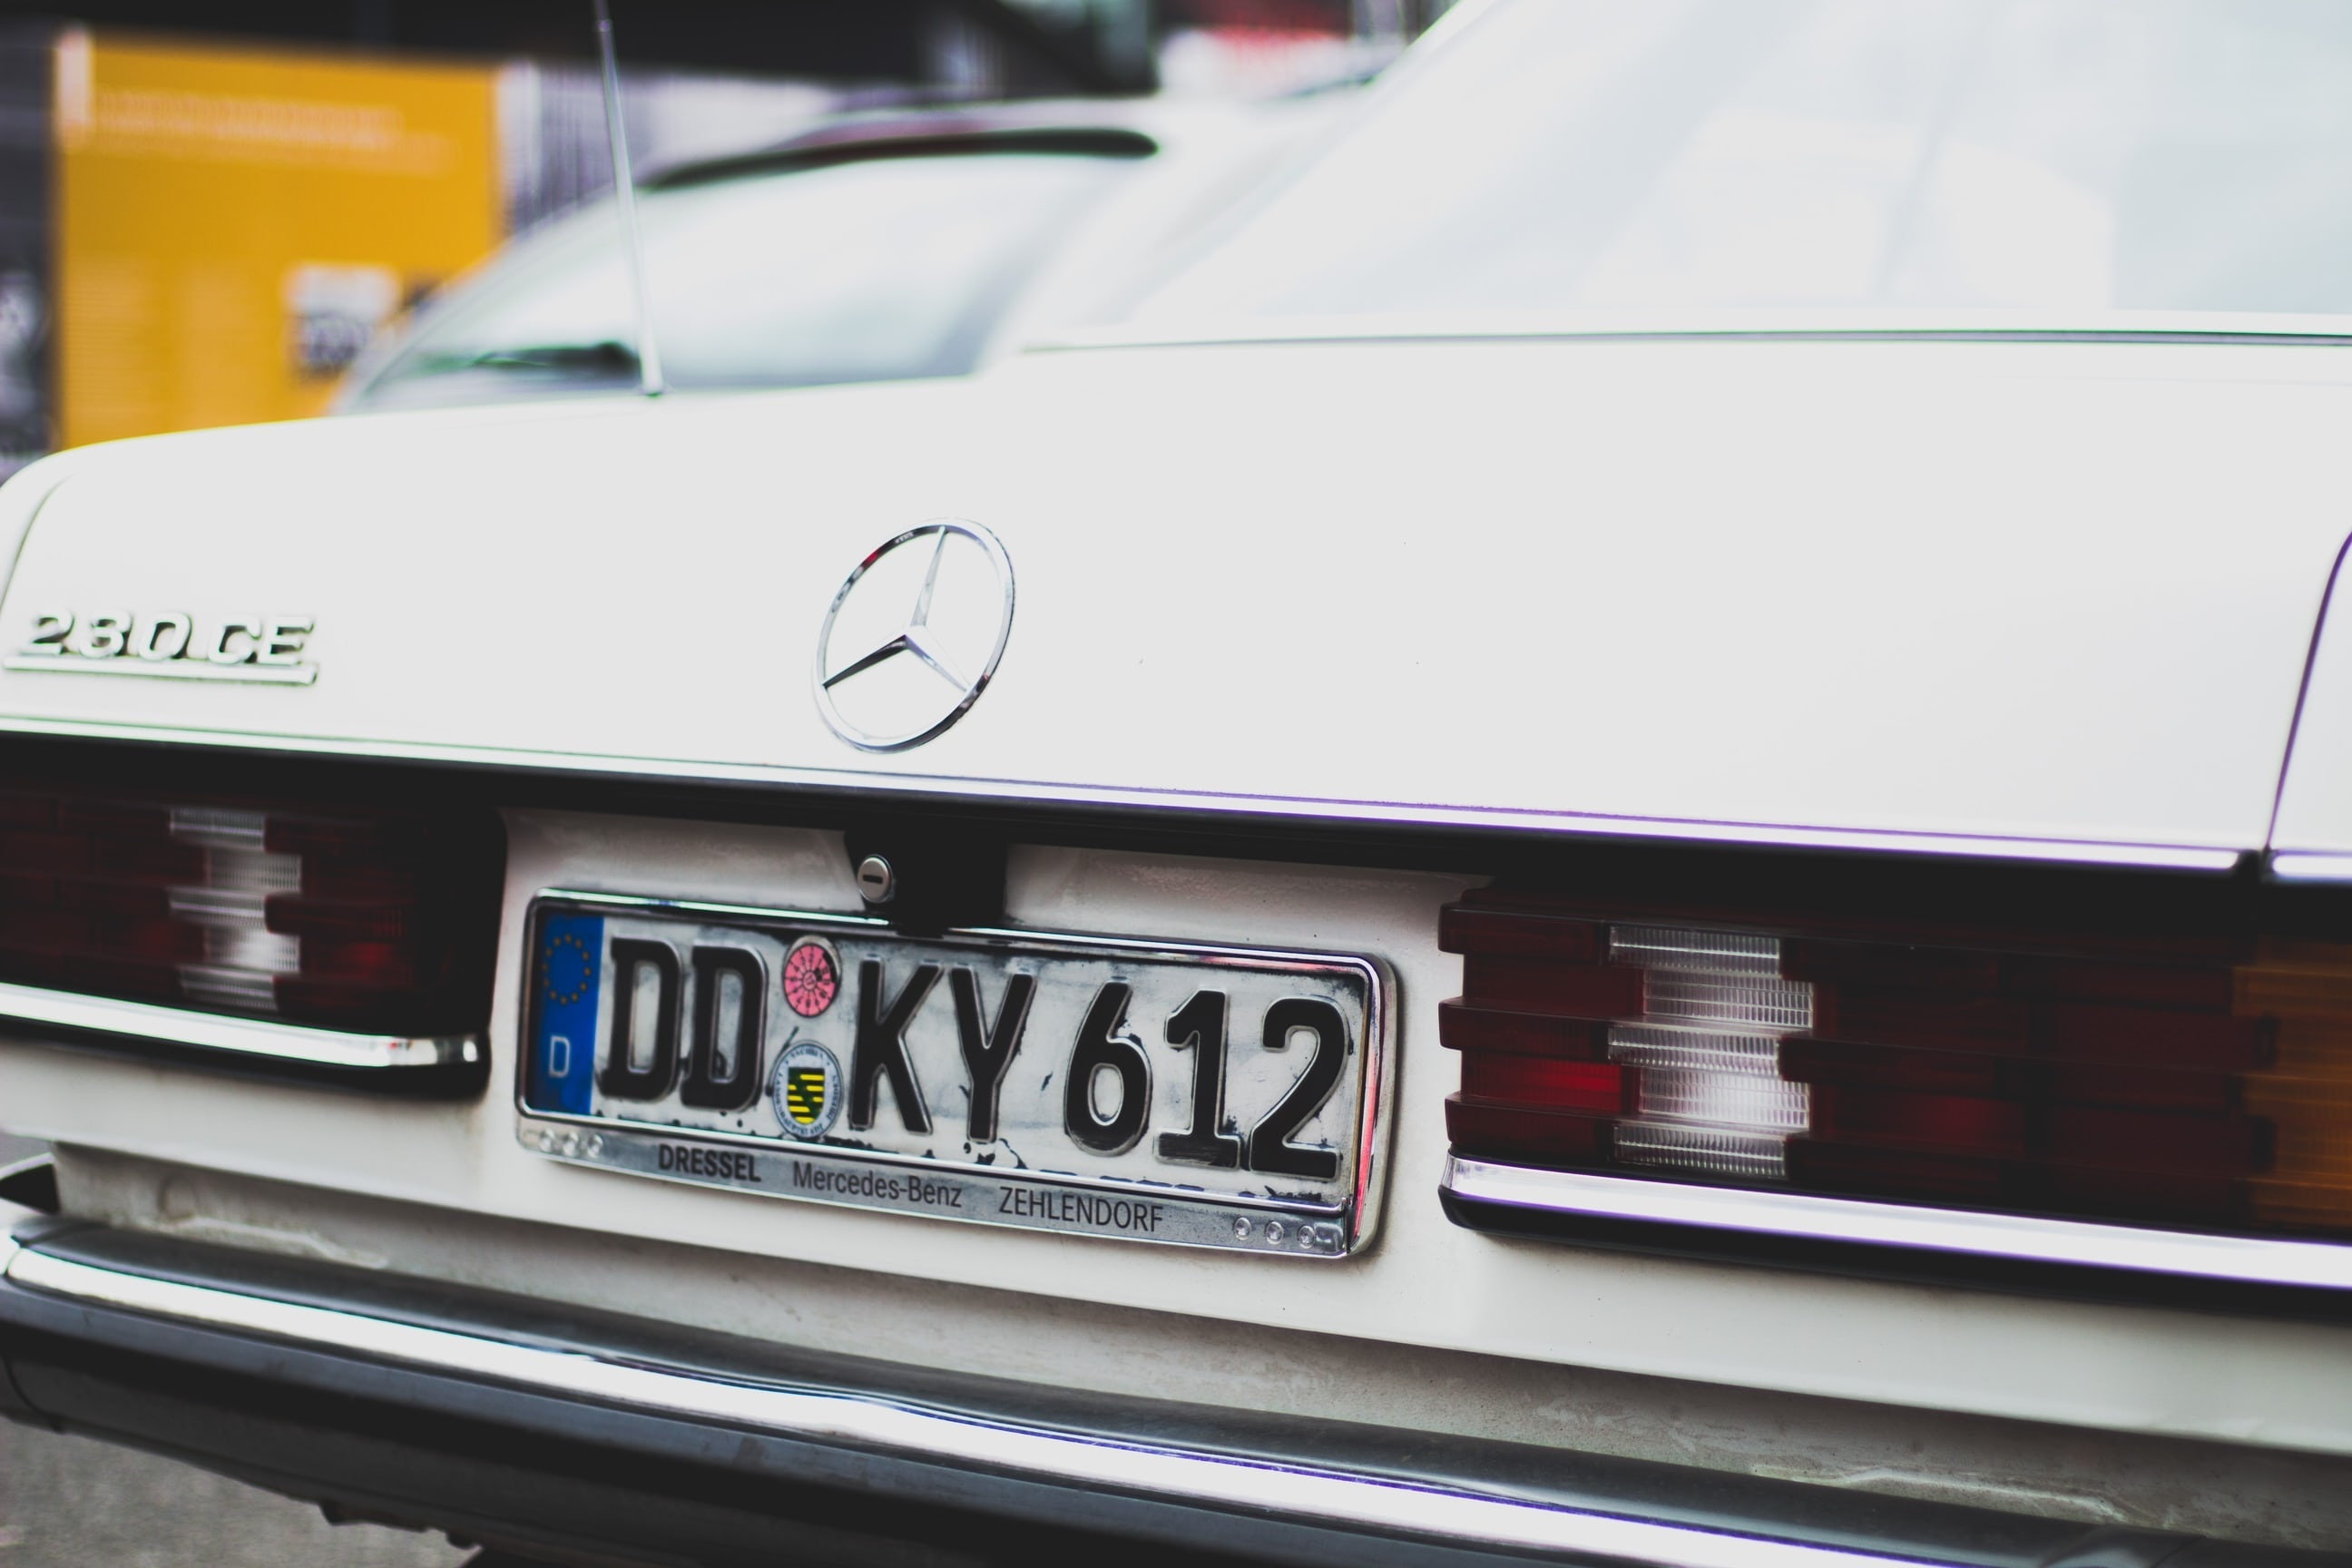plaka: (507, 887, 1385, 1253)
